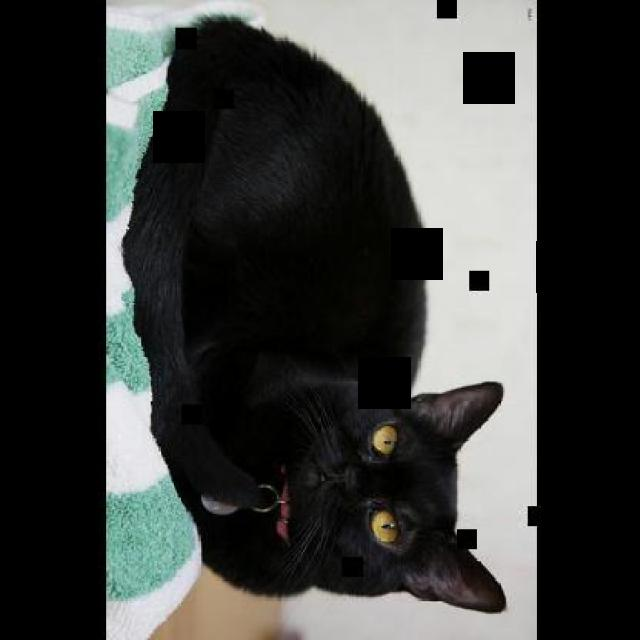unauthorized: (119, 11, 506, 615)
